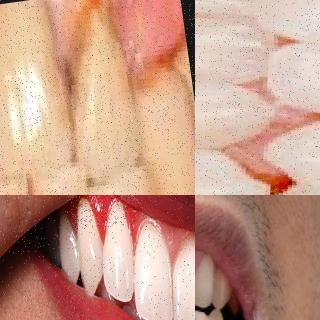Gum Swelling: (61, 195, 145, 243)
maligned: (195, 257, 219, 309)
